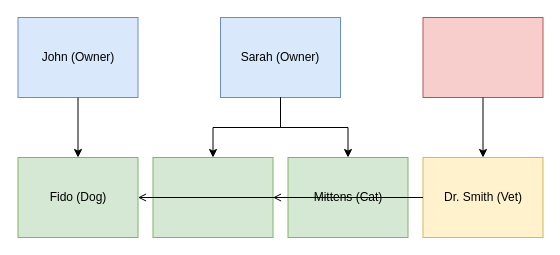
The diagram is 560 pixels wide and 255 high, and some of its shapes have lost their labels. Here are the shapes that lost their labels. From the top down, the centre of each, then its label:
point 482,57: Pet Palace (Shop)
point 212,197: Whiskers (Cat)
